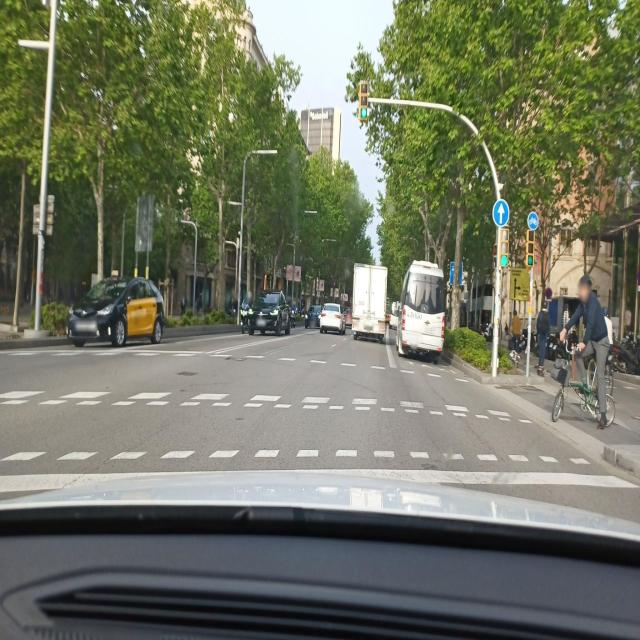forb_stopping: (545, 288, 553, 300)
